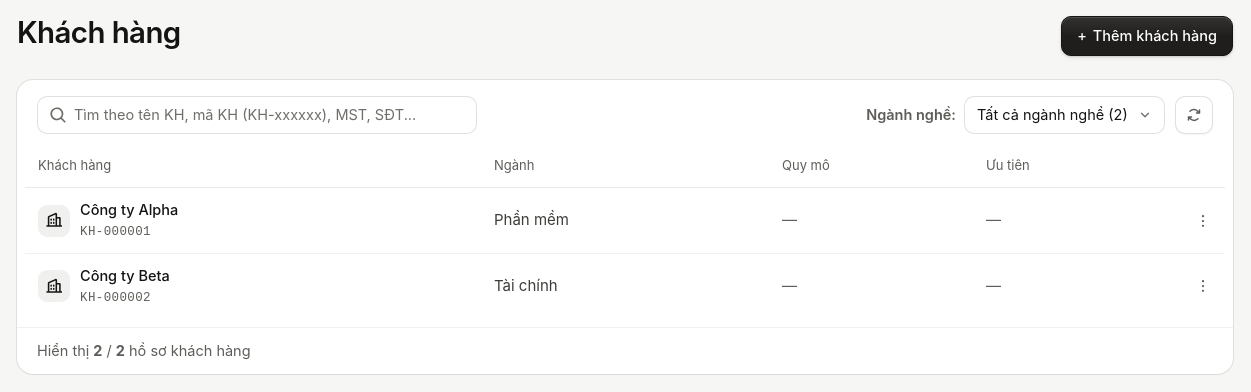
Test: CustomerListPage Component (NCL-02-CN-001-CV-05) › Tìm kiếm & Lọc danh sách khách hàng › lọc khách hàng theo từ khóa tìm kiếm
Expected: the button "Công ty Alpha" is shown, x1=80 y1=199 x2=178 y2=221
Expected: the button "Công ty Beta" is shown, x1=80 y1=265 x2=170 y2=287
Note: Tìm kiếm "Alpha"
Type "Alpha" into the field with placeholder "Tìm theo tên KH, mã KH (KH-xxxxxx), MST, SĐT..." at (257, 115), box x1=37 y1=96 x2=477 y2=134
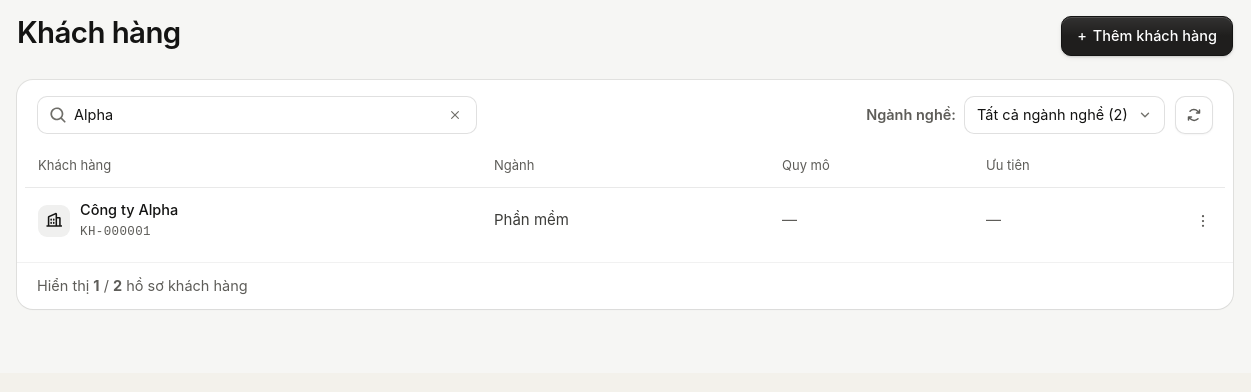
Expected: the button "Công ty Alpha" is shown, x1=80 y1=199 x2=178 y2=221
Expected: the button "Công ty Beta" is gone
